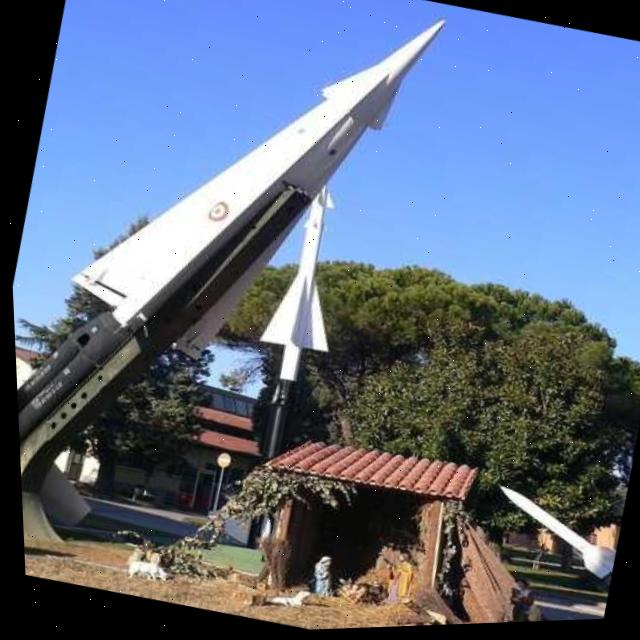missile: (45, 0, 464, 406), (238, 178, 371, 423)
